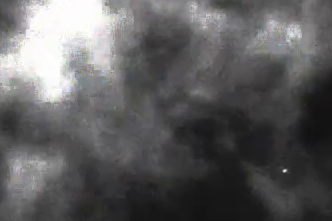Target: (282, 169, 287, 172)
